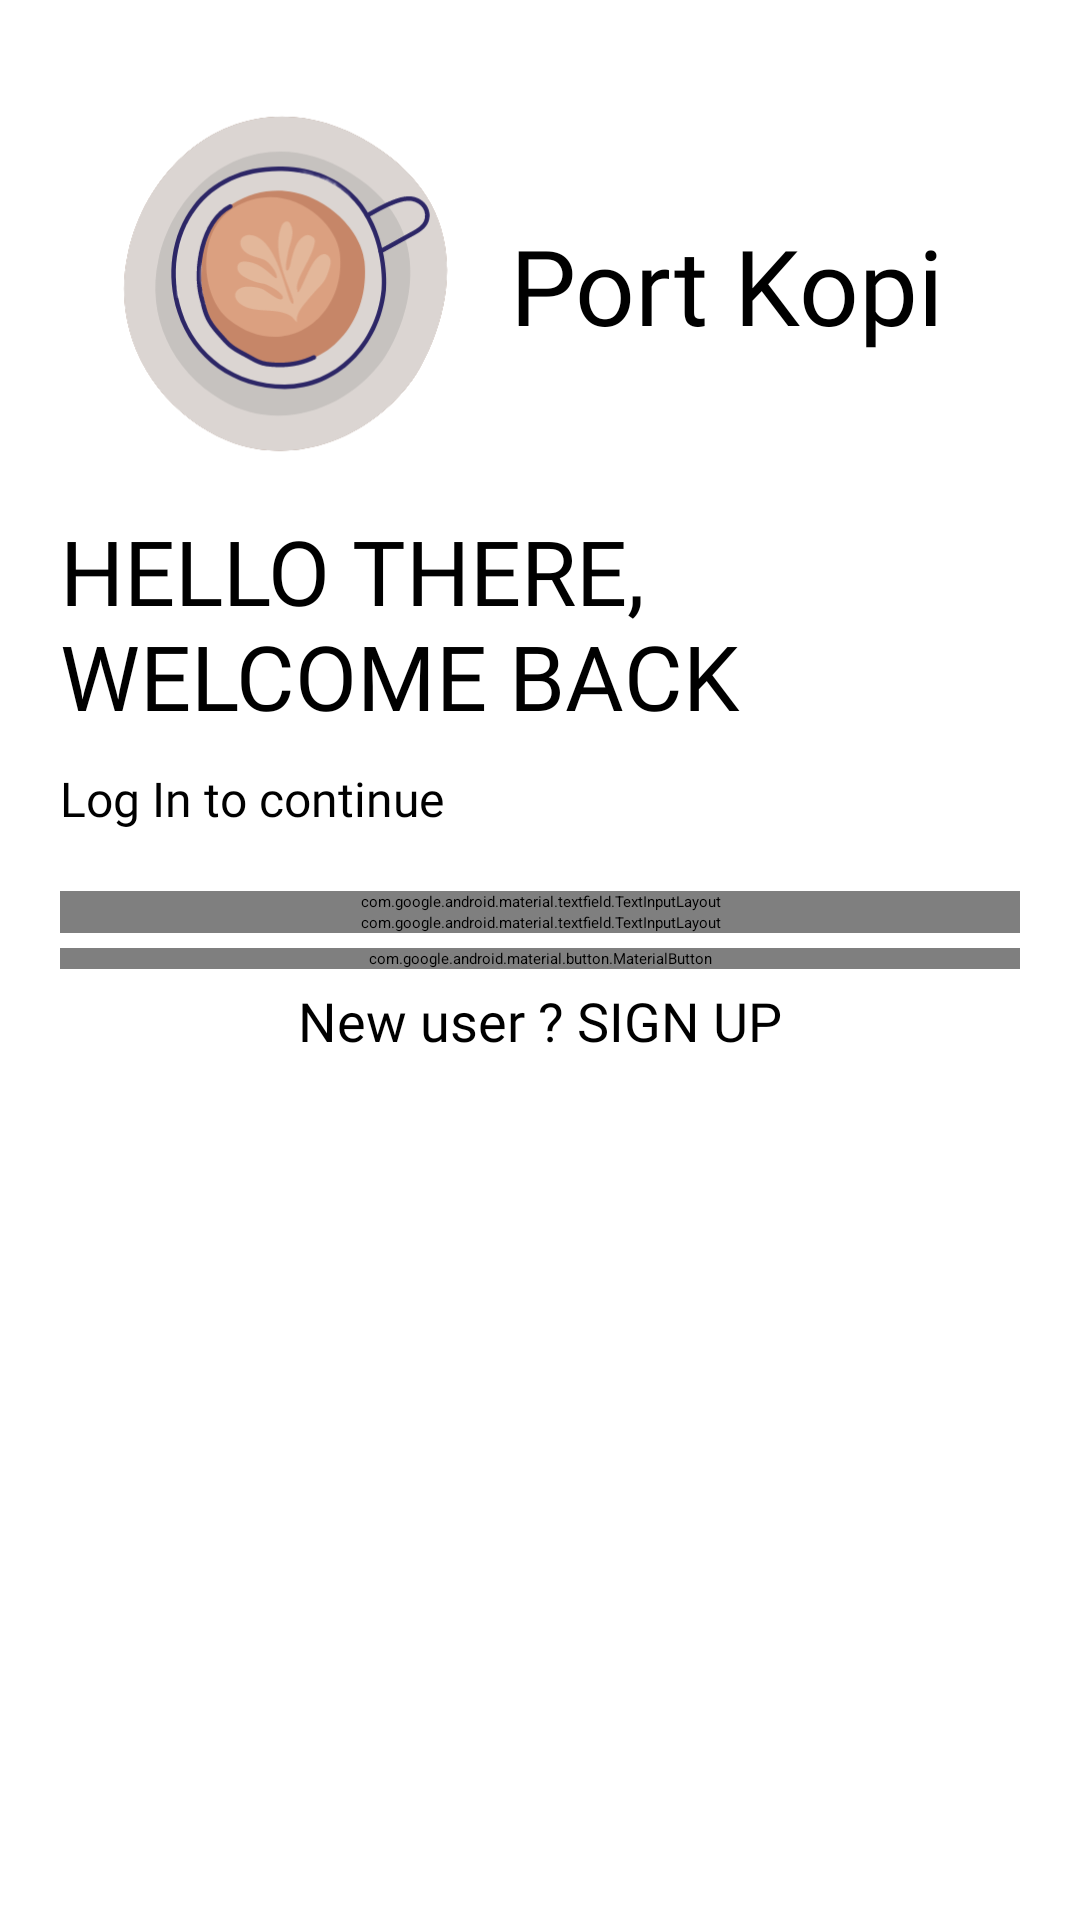

Screen size 1080px x 1920px. Icon name, then its box in pixels as detection(x1, y1, x2, y2):
coffee cup: detection(124, 117, 447, 451)
